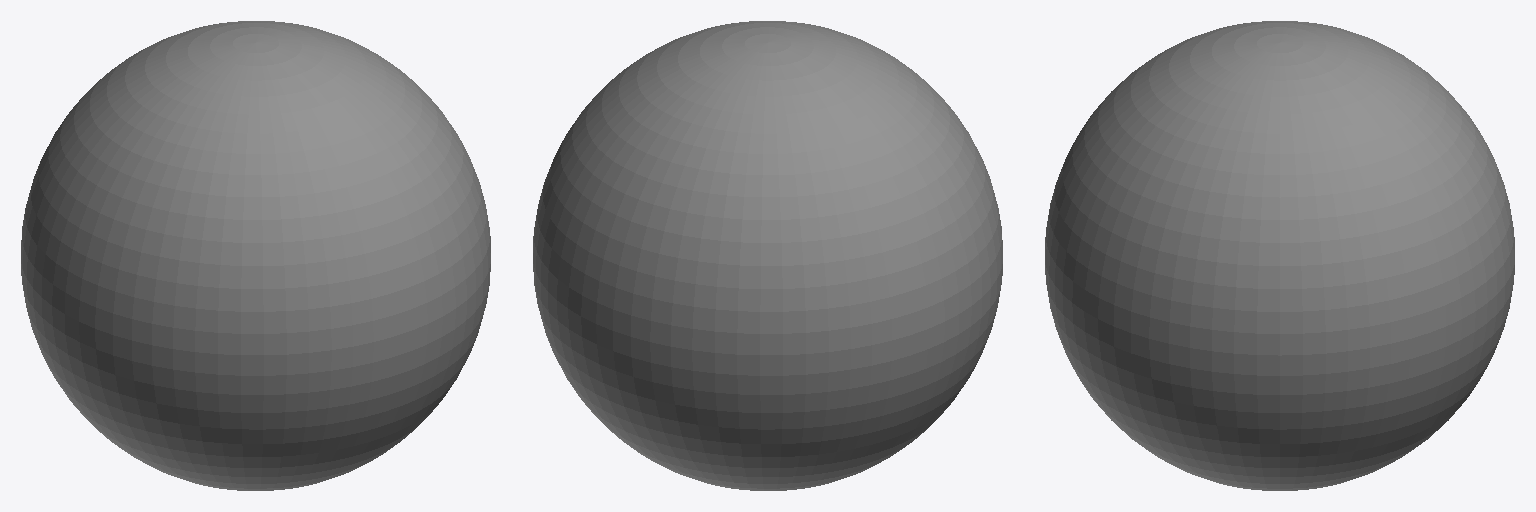
File: moon.obj
The picture shows the model from 3 angles: view 1: azimuth 30°, elevation 25°; view 2: azimuth 150°, elevation 25°; view 3: azimuth 270°, elevation 25°; orthographic projection.
Parts seen in each view (by area): view 1: Ganimede; view 2: Ganimede; view 3: Ganimede.
Part boxes in pixels (left/top/right/bottom): Ganimede: left=21, top=21, right=490, bottom=490; Ganimede: left=533, top=21, right=1002, bottom=490; Ganimede: left=1045, top=21, right=1514, bottom=490.
Size of the model in its own units: 100 by 100 by 100.